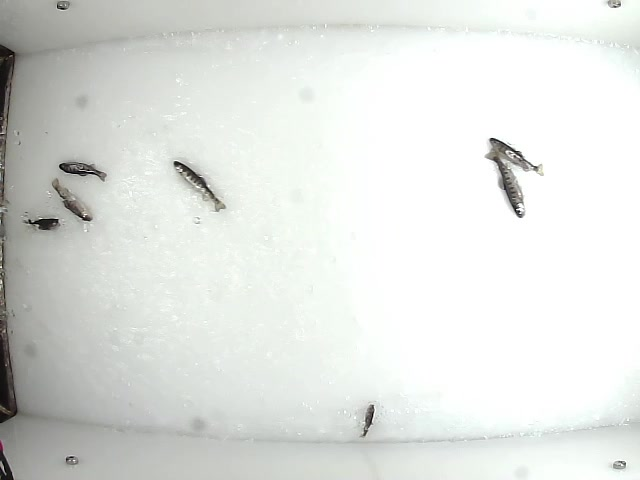fish: (482, 147, 527, 219), (172, 158, 227, 214), (484, 136, 544, 179), (49, 175, 95, 224), (56, 160, 109, 184), (356, 401, 375, 441), (23, 216, 61, 232)
